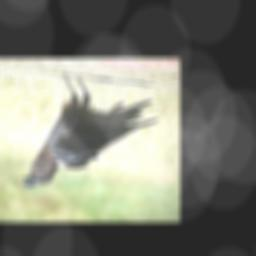Crow: (20, 74, 160, 188)
